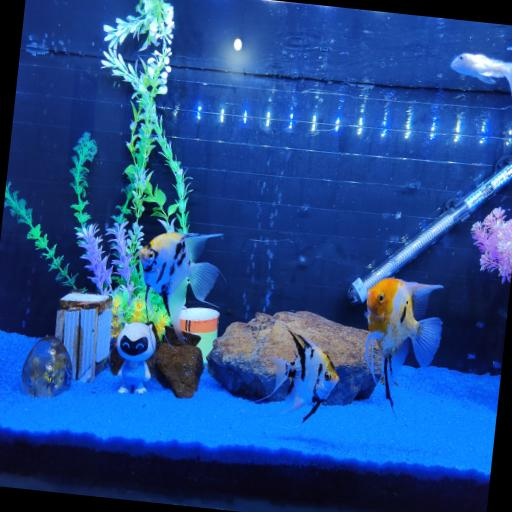Fish: (365, 278, 443, 406), (139, 233, 222, 344), (259, 322, 339, 423), (451, 54, 511, 91)
